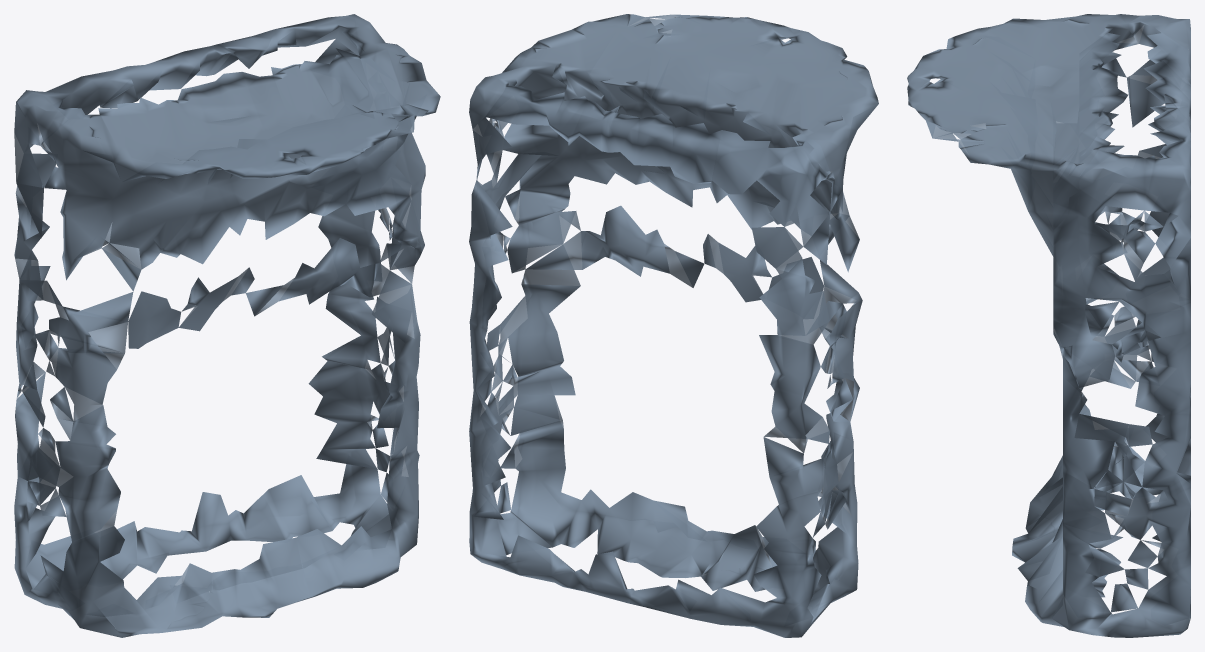
File: bed_0342_original.obj
3 renders of one model, left to right at view 1: azimuth 30°, elevation 25°; view 2: azimuth 150°, elevation 25°; view 3: azimuth 270°, elevation 25°, orthographic. The views are drawn at different scales.
Bounding box in the file's own units: 1.01 × 1.36 × 0.7462.
